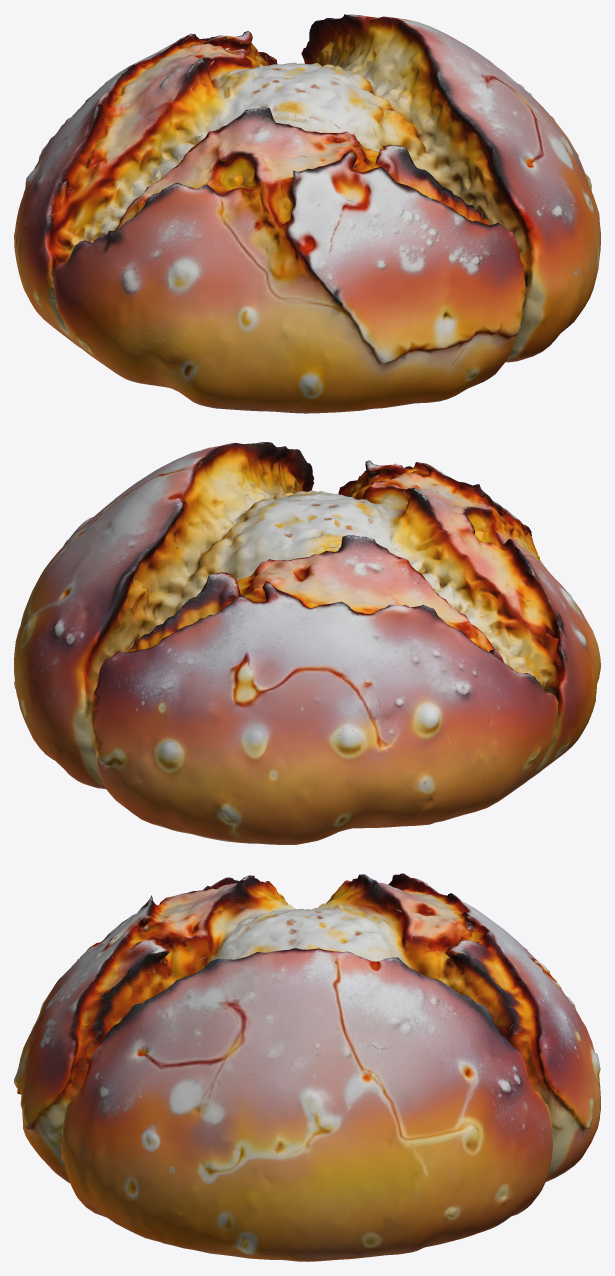
The model's file is bread.glb.
3 views of the same model, one above another, from view 1: azimuth 30°, elevation 25°; view 2: azimuth 150°, elevation 25°; view 3: azimuth 270°, elevation 25° (orthographic).
Size of the model in its own units: 1.91 by 0.9313 by 1.92.
1 material, 1 textured.
